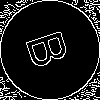B: (25, 25, 79, 71)
